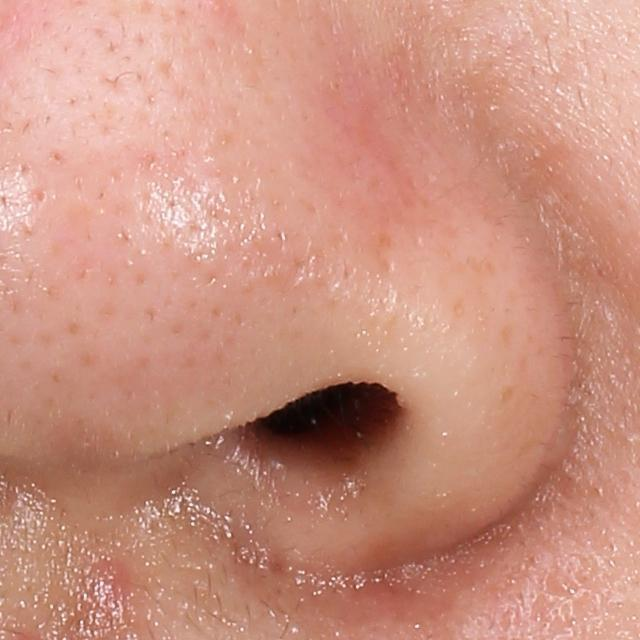papule: (79, 565, 134, 618)
